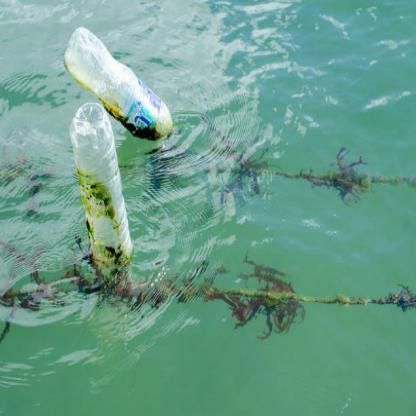plastic bottle: (64, 26, 174, 138), (68, 102, 135, 272)
